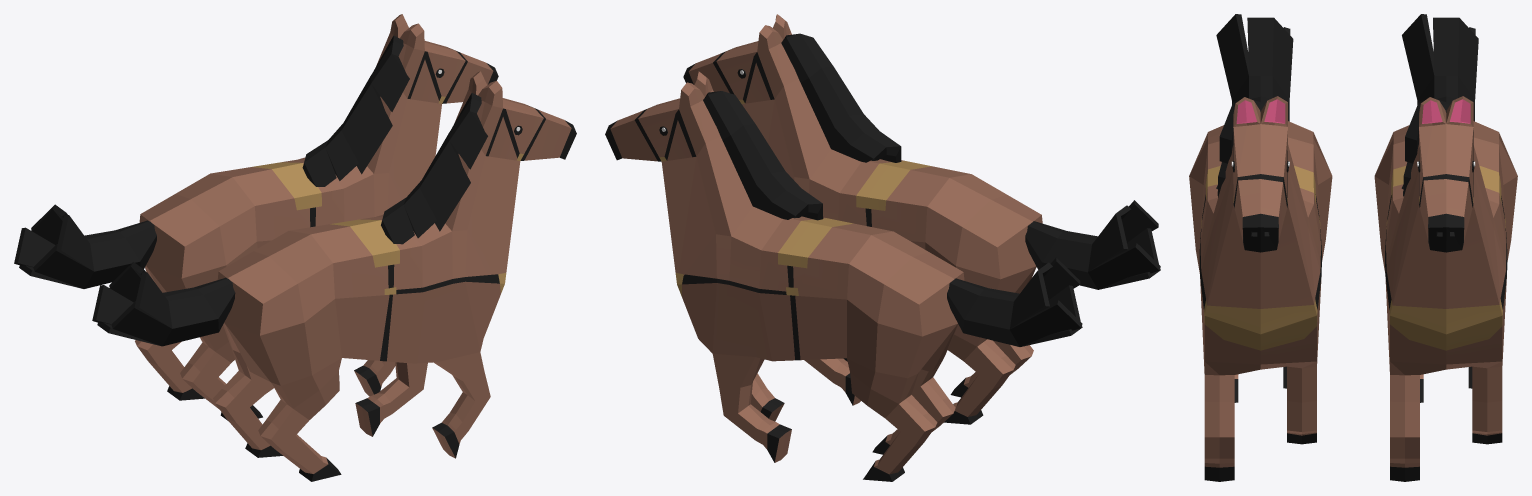
Rendered from Horses.fbx.
3 views of the same model, side by side, from view 1: azimuth 30°, elevation 25°; view 2: azimuth 150°, elevation 25°; view 3: azimuth 270°, elevation 25° (orthographic). The views are drawn at different scales.
Visible parts, largest first — view 1: Cube.027; view 2: Cube.027; view 3: Cube.027.
Part boxes in pixels (left/top/right/bottom): Cube.027: left=14, top=14, right=576, bottom=481; Cube.027: left=605, top=14, right=1160, bottom=481; Cube.027: left=1189, top=14, right=1517, bottom=481.
Bounding box in the file's own units: 593 × 420 × 299.
